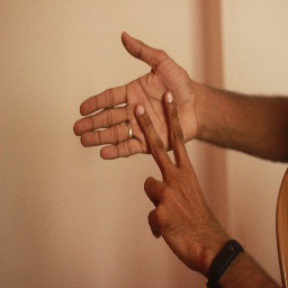N: (71, 31, 212, 222)
